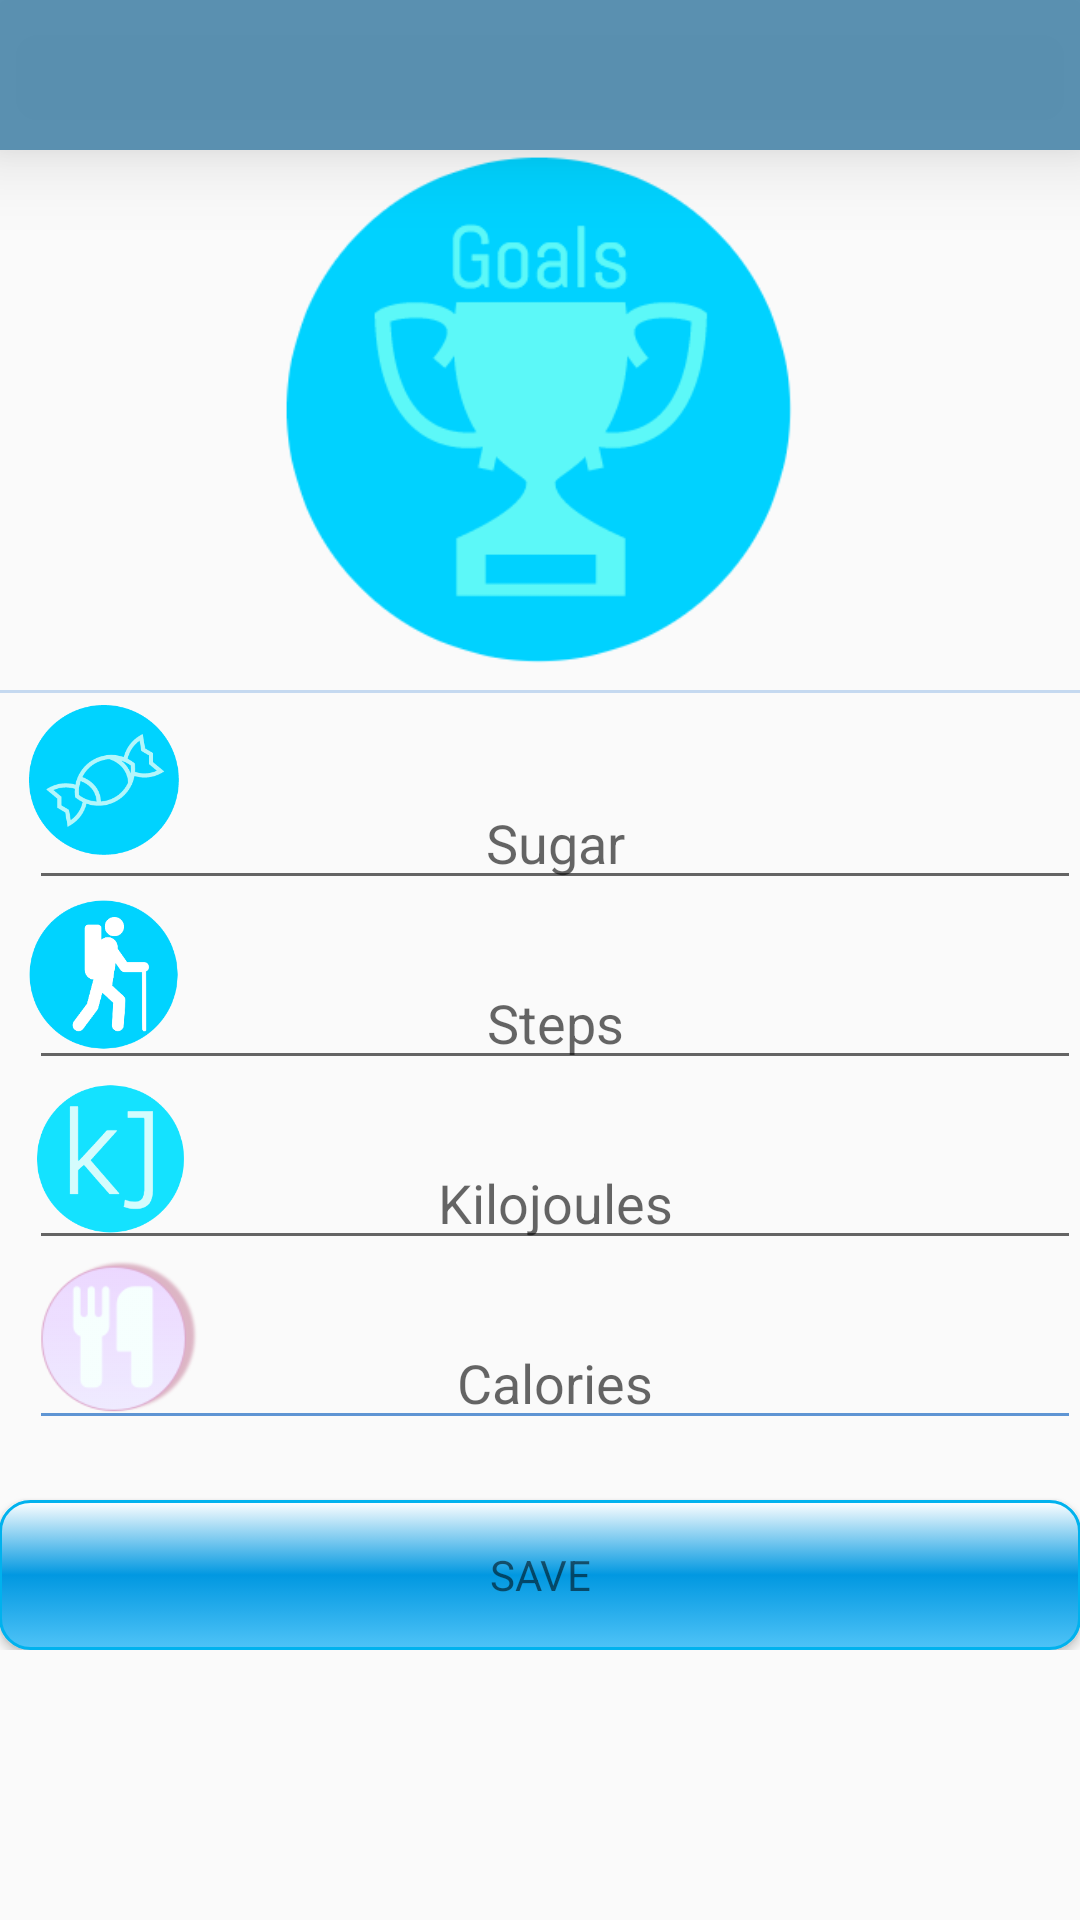

Locate icon controls on the screen. Image size 1080px×1920px, boxes as (x1, y1, x2, y2).
candy: (29, 705, 179, 855)
hike: (29, 900, 178, 1049)
meal: (41, 1263, 195, 1411)
